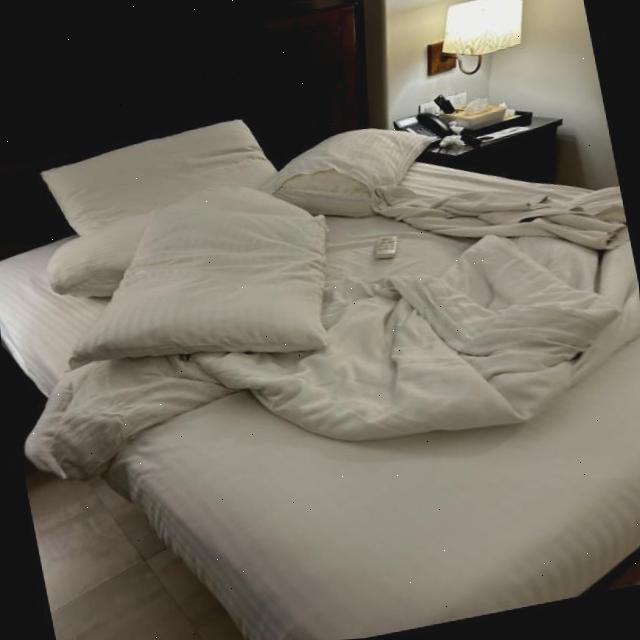Disorganized_pillow: (37, 118, 436, 360)
lamp: (413, 0, 524, 87)
mess: (329, 198, 627, 446), (23, 360, 296, 486), (400, 181, 548, 219), (422, 135, 472, 152), (486, 105, 516, 122), (438, 124, 464, 136)
messy_bed: (0, 0, 640, 640)
